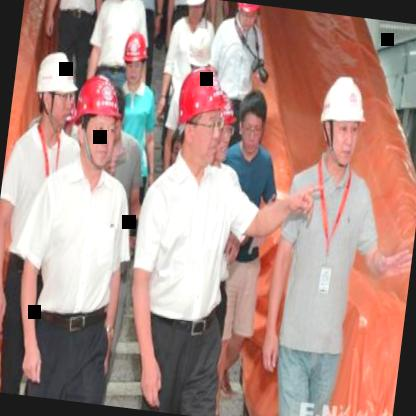head: (229, 86, 272, 154)
helmet: (172, 62, 233, 174), (310, 71, 372, 172), (68, 72, 130, 170), (26, 45, 83, 140), (118, 26, 152, 84), (232, 2, 264, 35)
